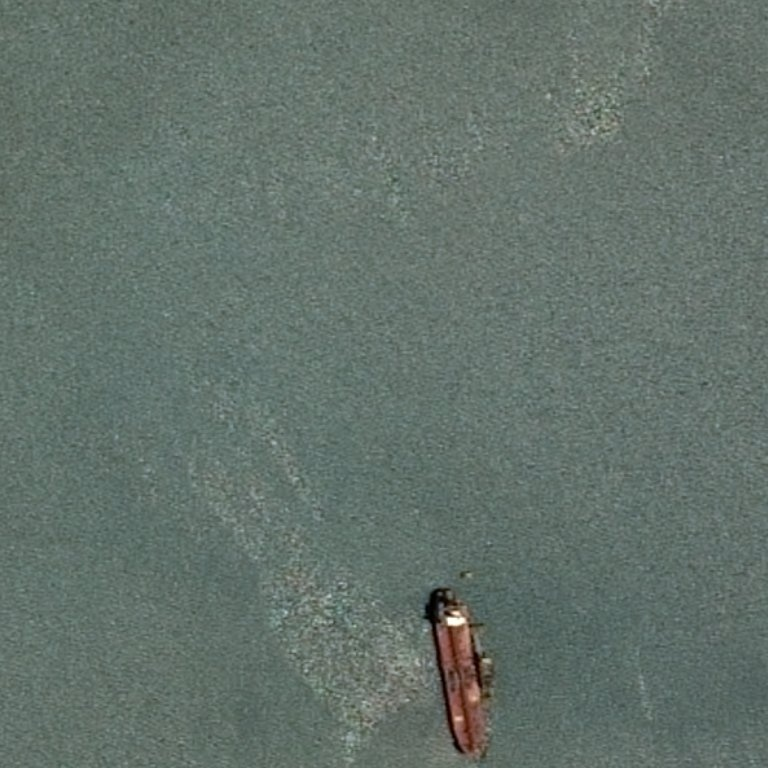ship: (432, 587, 482, 753), (471, 620, 492, 701)
